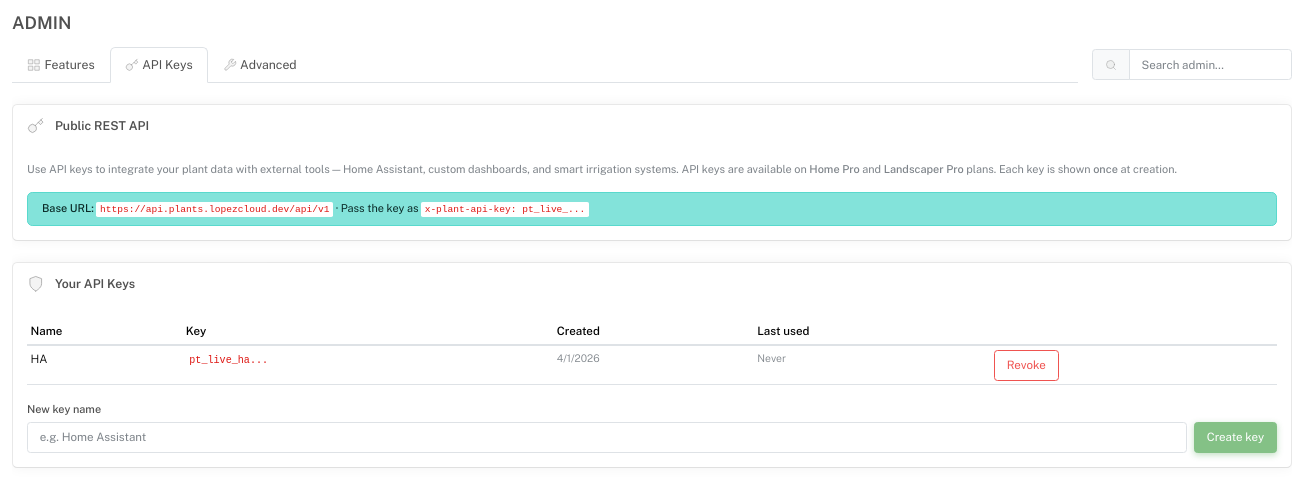
AdminPage API Keys tab › revokes a key and removes it from the list
Click the button with test id "revoke-key-k1" at coordinates (1026, 365), box [994,350,1059,381]
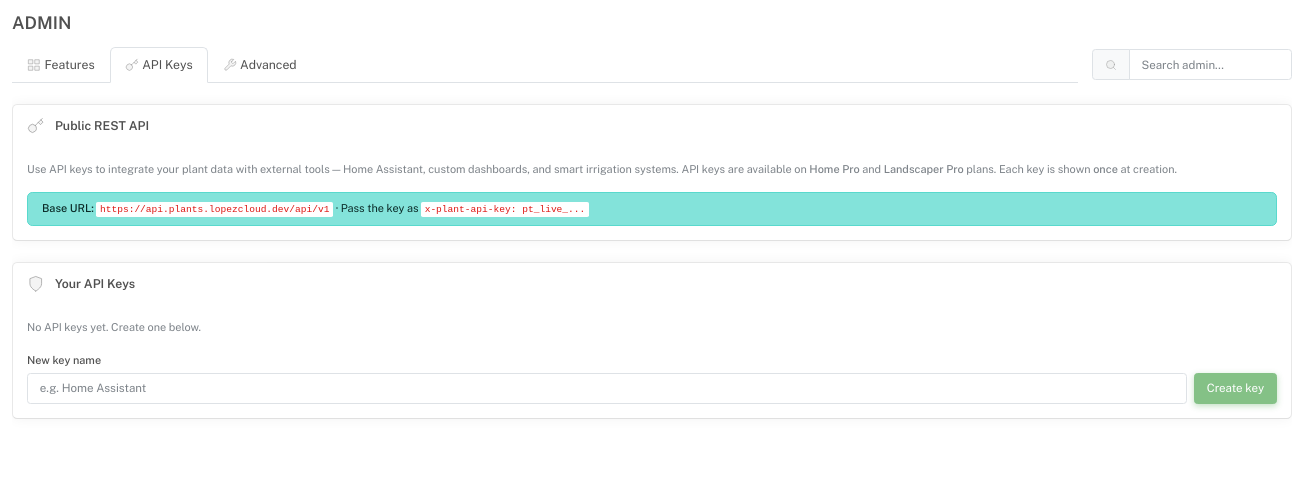
Now the button with test id "revoke-key-k1" is gone
